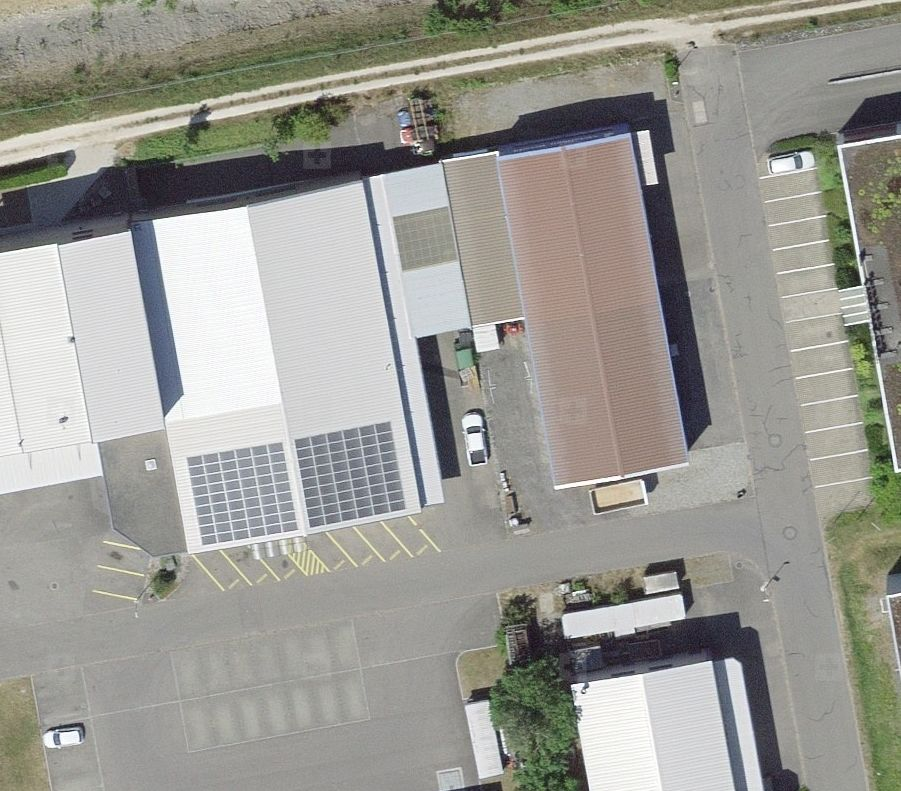solar: (184, 420, 408, 551)
